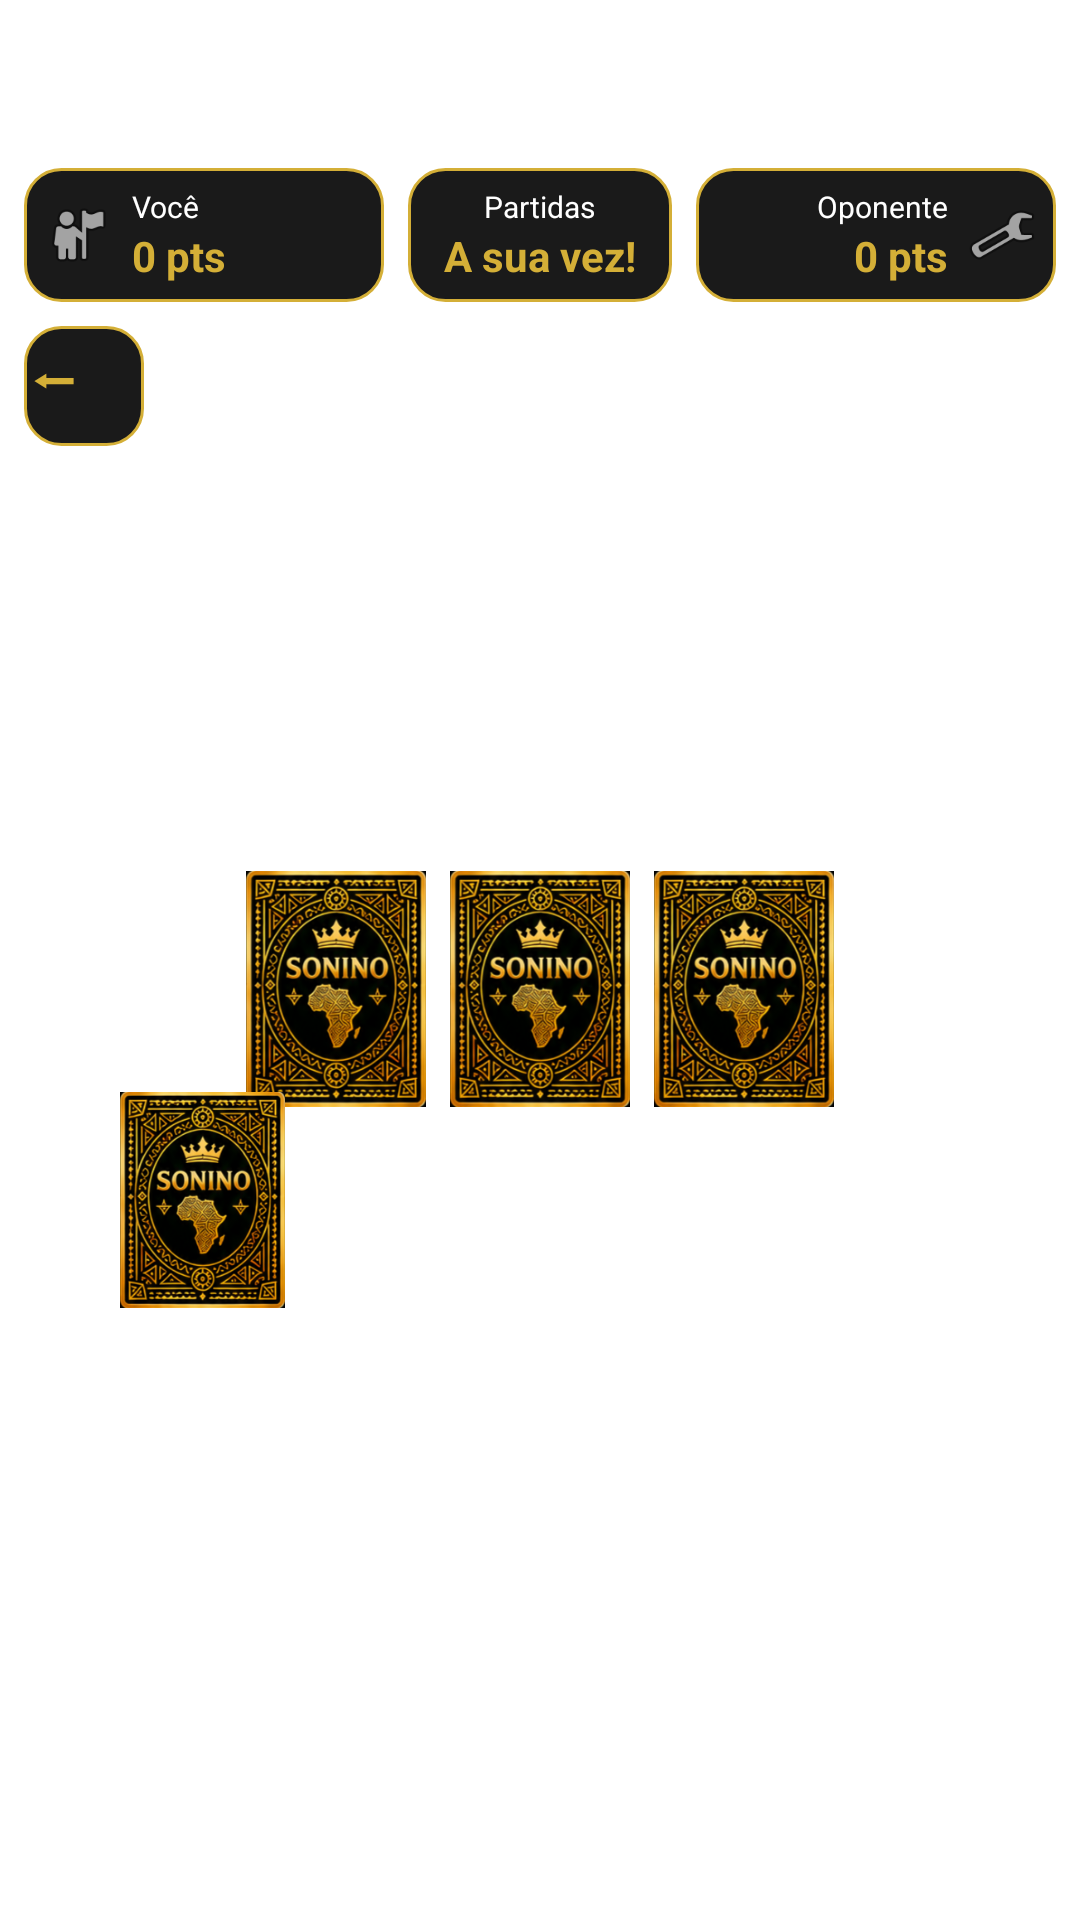

Where to tap for icons on this 1080px×1920px app screen, as (x=x, y=y):
manage: (x=1002, y=235)
myplaces: (x=79, y=235)
